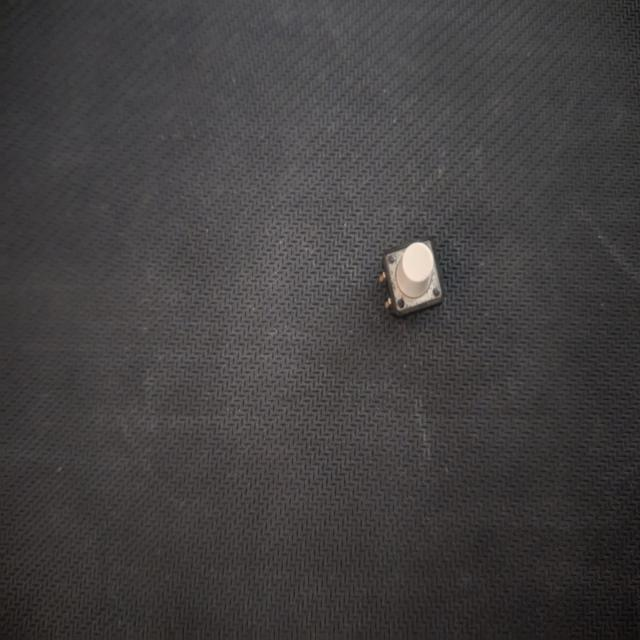switch: (368, 224, 455, 340)
